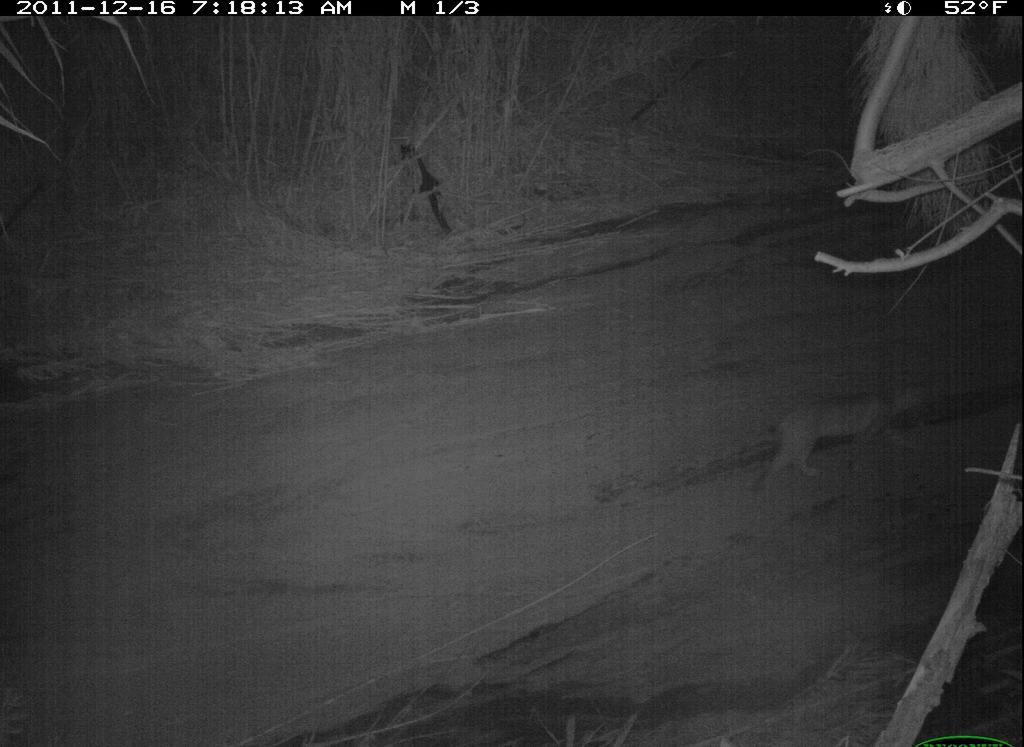bobcat: (749, 376, 940, 492)
